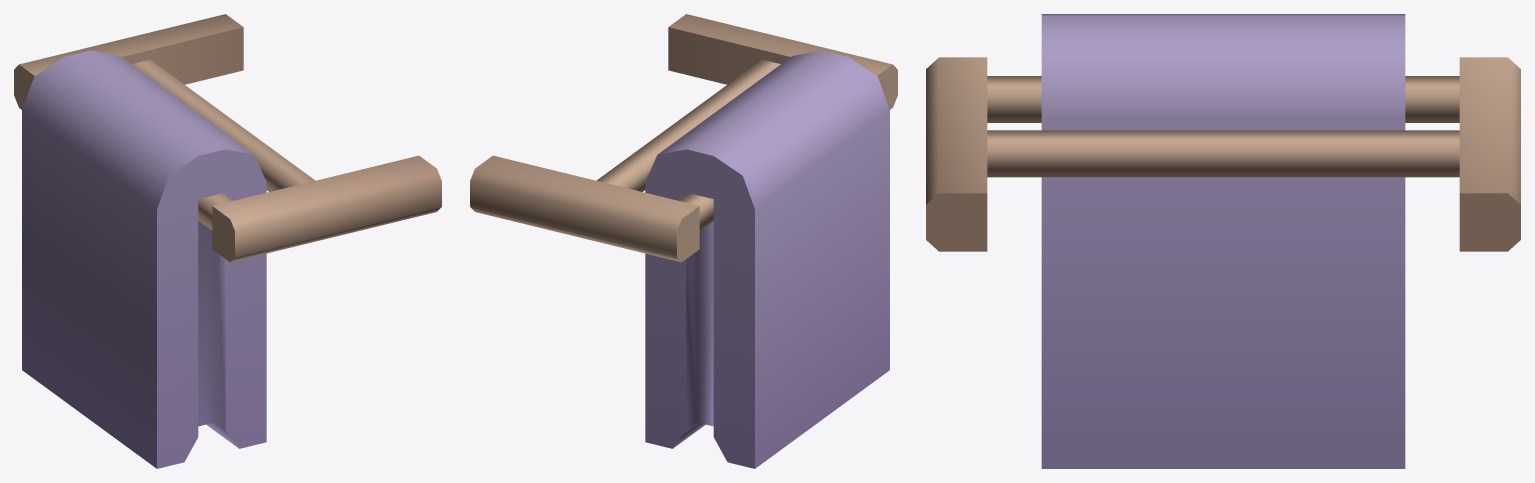
The model's file is towel-rack-towel-large (%wall).glb.
3 renders of one model, left to right at view 1: azimuth 30°, elevation 25°; view 2: azimuth 150°, elevation 25°; view 3: azimuth 270°, elevation 25°, orthographic. The views are drawn at different scales.
Parts seen in each view (by area): view 1: towel-rack-towel-large (%wall); view 2: towel-rack-towel-large (%wall); view 3: towel-rack-towel-large (%wall).
Boxes of the visible parts, x1,y1,x2,y2 form: towel-rack-towel-large (%wall): (14,14,441,468); towel-rack-towel-large (%wall): (470,14,897,468); towel-rack-towel-large (%wall): (926,14,1520,468).
Size of the model in its own units: 0.2924 by 0.35 by 0.4625.
